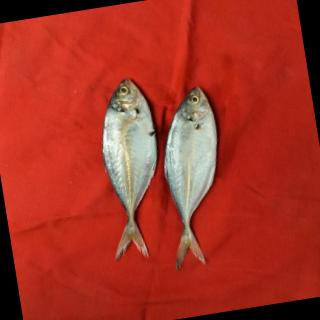Ikan: (82, 62, 245, 287)
